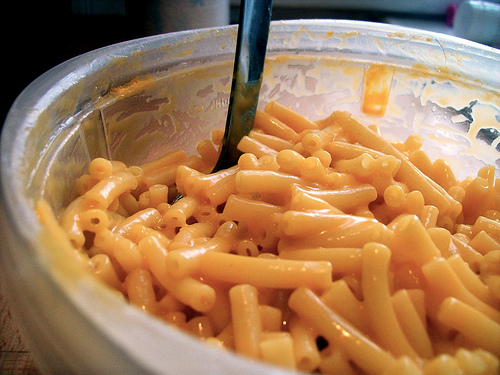macncheese: (61, 96, 500, 374)
